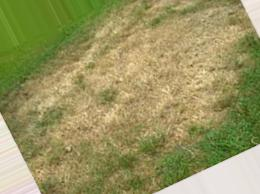patch: (27, 97, 143, 180), (93, 31, 193, 107), (185, 22, 218, 112), (123, 100, 192, 137)
